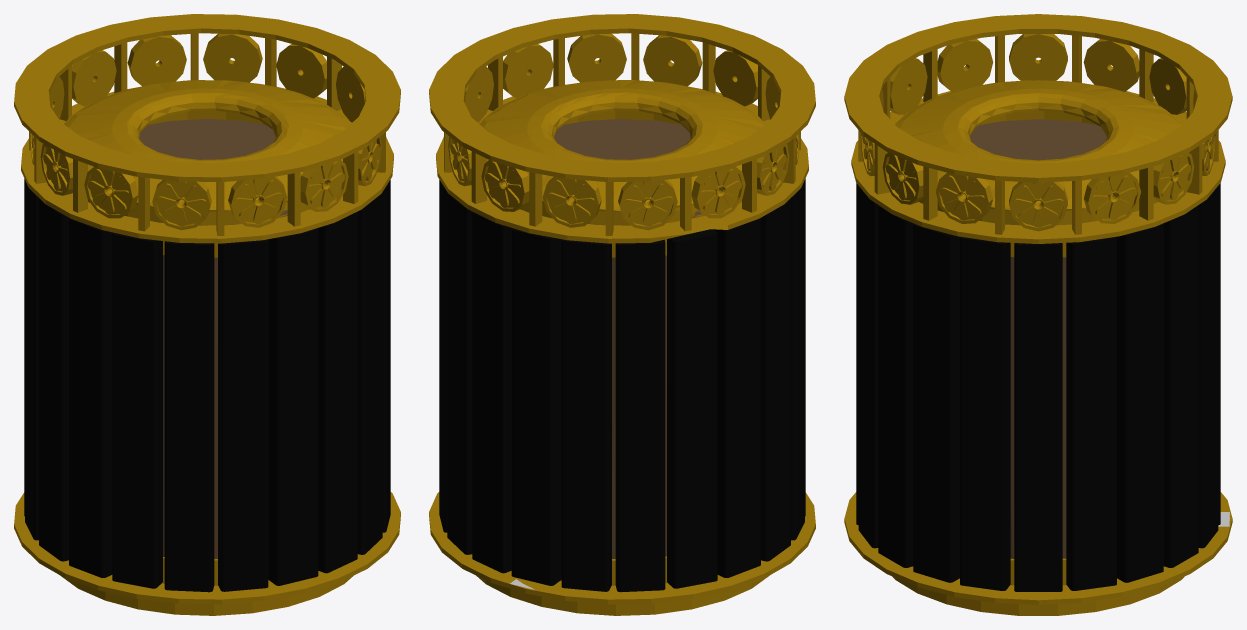
3 views of the same model, side by side, from view 1: azimuth 30°, elevation 25°; view 2: azimuth 150°, elevation 25°; view 3: azimuth 270°, elevation 25° (orthographic).
Parts seen in each view (by area): view 1: mesh57.002_mesh57-geometry, mesh1.025_mesh1-geometry, mesh1.024_mesh1-geometry, mesh1.023_mesh1-geometry, mesh1.026_mesh1-geometry, mesh1.022_mesh1-geometry, mesh20.002_mesh20-geometry, mesh1.027_mesh1-geometry, mesh1.021_mesh1-geometry, mesh1.028_mesh1-geometry, mesh52.002_mesh52-geometry, mesh35.002_mesh35-geometry (+23 smaller); view 2: mesh57.002_mesh57-geometry, mesh1.039_mesh1-geometry, mesh1.038_mesh1-geometry, mesh1.037_mesh1-geometry, mesh1.036_mesh1-geometry, mesh1.040_mesh1-geometry, mesh20.002_mesh20-geometry, mesh1.035_mesh1-geometry, mesh1.021_mesh1-geometry, mesh1.034_mesh1-geometry, mesh52.002_mesh52-geometry, mesh35.002_mesh35-geometry (+23 smaller); view 3: mesh57.002_mesh57-geometry, mesh1.032_mesh1-geometry, mesh1.030_mesh1-geometry, mesh1.031_mesh1-geometry, mesh1.033_mesh1-geometry, mesh1.029_mesh1-geometry, mesh20.002_mesh20-geometry, mesh1.034_mesh1-geometry, mesh1.028_mesh1-geometry, mesh68.002_mesh68-geometry, mesh1.035_mesh1-geometry, mesh1.027_mesh1-geometry (+24 smaller).
Part boxes in pixels (bbox=[...]): mesh57.002_mesh57-geometry: bbox=[14, 14, 400, 181]; mesh1.025_mesh1-geometry: bbox=[218, 239, 268, 591]; mesh1.024_mesh1-geometry: bbox=[164, 241, 214, 592]; mesh1.023_mesh1-geometry: bbox=[112, 232, 162, 588]; mesh1.026_mesh1-geometry: bbox=[268, 228, 318, 585]; mesh1.022_mesh1-geometry: bbox=[69, 218, 112, 577]; mesh20.002_mesh20-geometry: bbox=[64, 80, 350, 225]; mesh1.027_mesh1-geometry: bbox=[318, 211, 357, 573]; mesh1.021_mesh1-geometry: bbox=[39, 198, 68, 561]; mesh1.028_mesh1-geometry: bbox=[357, 192, 382, 554]; mesh52.002_mesh52-geometry: bbox=[21, 87, 393, 243]; mesh35.002_mesh35-geometry: bbox=[14, 492, 400, 604]; mesh57.002_mesh57-geometry: bbox=[429, 14, 815, 181]; mesh1.039_mesh1-geometry: bbox=[667, 229, 717, 588]; mesh1.038_mesh1-geometry: bbox=[615, 239, 665, 592]; mesh1.037_mesh1-geometry: bbox=[561, 239, 611, 591]; mesh1.036_mesh1-geometry: bbox=[511, 228, 561, 585]; mesh1.040_mesh1-geometry: bbox=[714, 218, 760, 577]; mesh20.002_mesh20-geometry: bbox=[479, 80, 765, 225]; mesh1.035_mesh1-geometry: bbox=[472, 211, 511, 573]; mesh1.021_mesh1-geometry: bbox=[761, 198, 790, 561]; mesh1.034_mesh1-geometry: bbox=[447, 192, 472, 554]; mesh52.002_mesh52-geometry: bbox=[436, 87, 808, 243]; mesh35.002_mesh35-geometry: bbox=[429, 492, 815, 604]; mesh57.002_mesh57-geometry: bbox=[844, 14, 1232, 182]; mesh1.032_mesh1-geometry: bbox=[1066, 236, 1116, 590]; mesh1.030_mesh1-geometry: bbox=[960, 236, 1010, 590]; mesh1.031_mesh1-geometry: bbox=[1014, 243, 1062, 591]; mesh1.033_mesh1-geometry: bbox=[1117, 223, 1163, 582]; mesh1.029_mesh1-geometry: bbox=[913, 223, 959, 582]; mesh20.002_mesh20-geometry: bbox=[895, 80, 1181, 225]; mesh1.034_mesh1-geometry: bbox=[1163, 205, 1198, 567]; mesh1.028_mesh1-geometry: bbox=[878, 205, 913, 567]; mesh68.002_mesh68-geometry: bbox=[970, 119, 1106, 558]; mesh1.035_mesh1-geometry: bbox=[1198, 186, 1218, 548]; mesh1.027_mesh1-geometry: bbox=[858, 186, 878, 548].
Size of the model in its own units: 0.5232 by 0.6727 by 0.5232.
